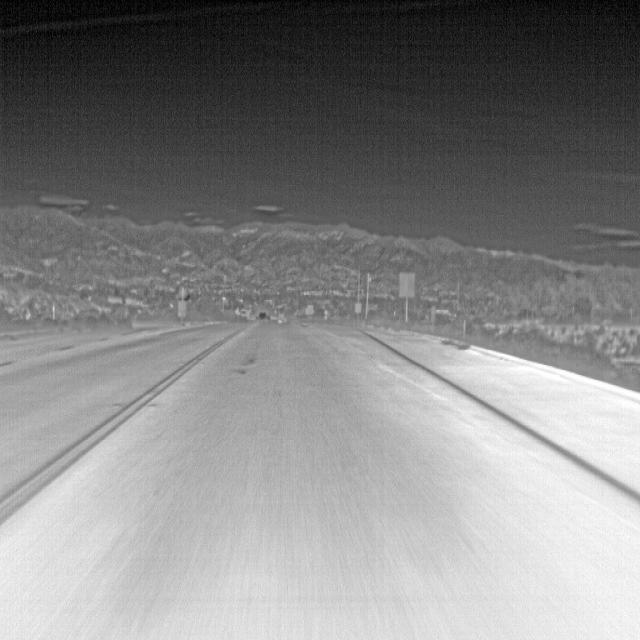Pedestrian: (170, 276, 194, 329)
